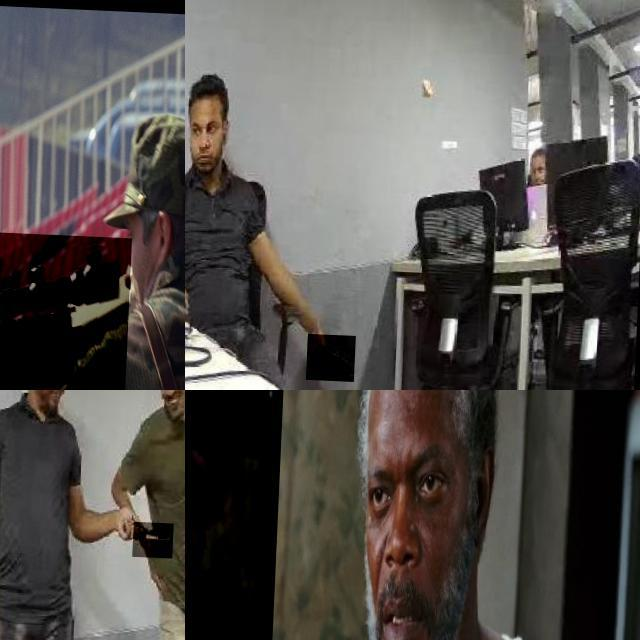-: (311, 331, 361, 378), (136, 518, 177, 555)
gun-knife-thesis - v11 Yolov5 augmented: (0, 219, 185, 390), (185, 390, 287, 640)
